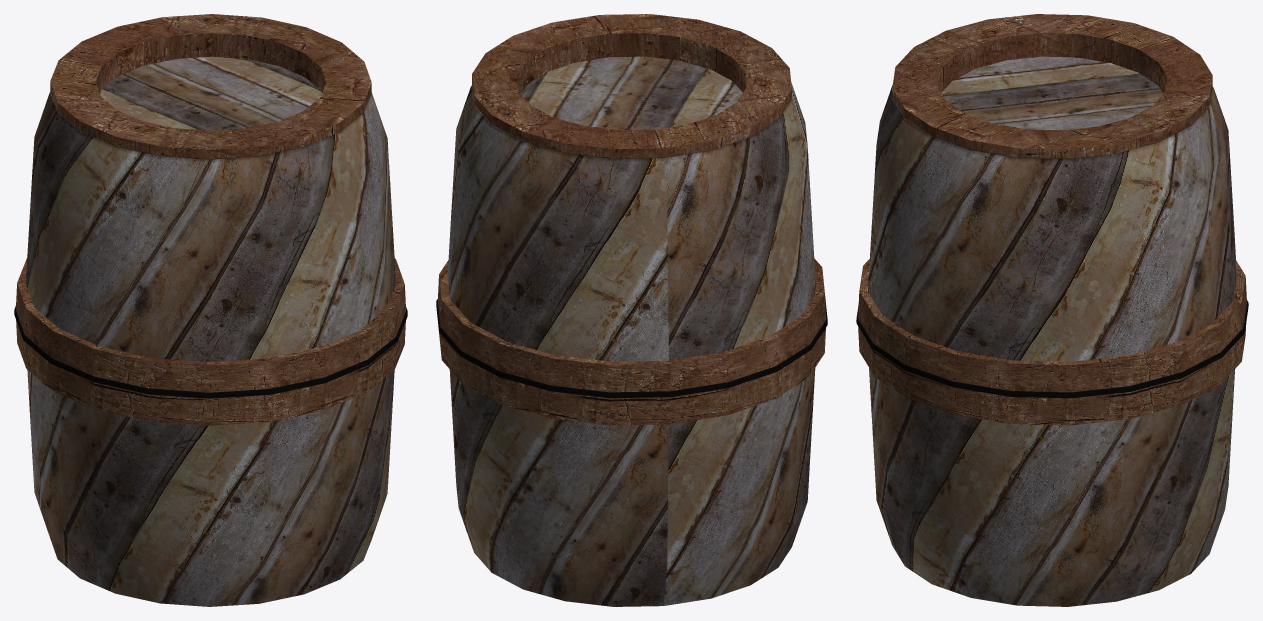
The model's file is winebarrel.glb.
3 renders of one model, left to right at view 1: azimuth 30°, elevation 25°; view 2: azimuth 150°, elevation 25°; view 3: azimuth 270°, elevation 25°, orthographic.
Parts seen in each view (by area): view 1: barrel1; view 2: barrel1; view 3: barrel1.
Part boxes in pixels (<box>): barrel1: <box>14,14,407,606</box>; barrel1: <box>436,14,827,606</box>; barrel1: <box>856,14,1248,606</box>.
Size of the model in its own units: 0.0116 by 0.015 by 0.0116.
Materials: 3 (2 with a texture image).
